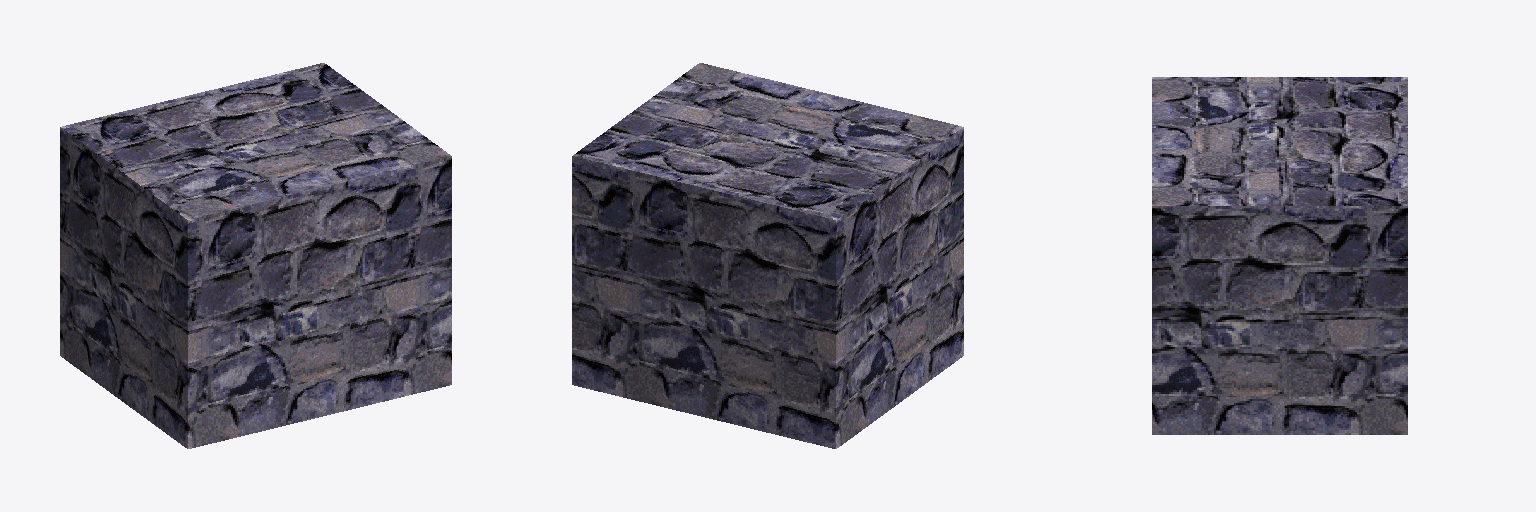
3 renders of one model, left to right at view 1: azimuth 30°, elevation 25°; view 2: azimuth 150°, elevation 25°; view 3: azimuth 270°, elevation 25°, orthographic.
Visible parts, largest first — view 1: banana-SKP--i_banana; view 2: banana-SKP--i_banana; view 3: banana-SKP--i_banana.
Boxes of the visible parts, x1=… form: banana-SKP--i_banana: x1=60, y1=63, x2=451, y2=448; banana-SKP--i_banana: x1=572, y1=63, x2=963, y2=448; banana-SKP--i_banana: x1=1152, y1=77, x2=1407, y2=434.
Size of the model in its own units: 87.5 by 72.64 by 73.27.
1 materials, 1 textured.